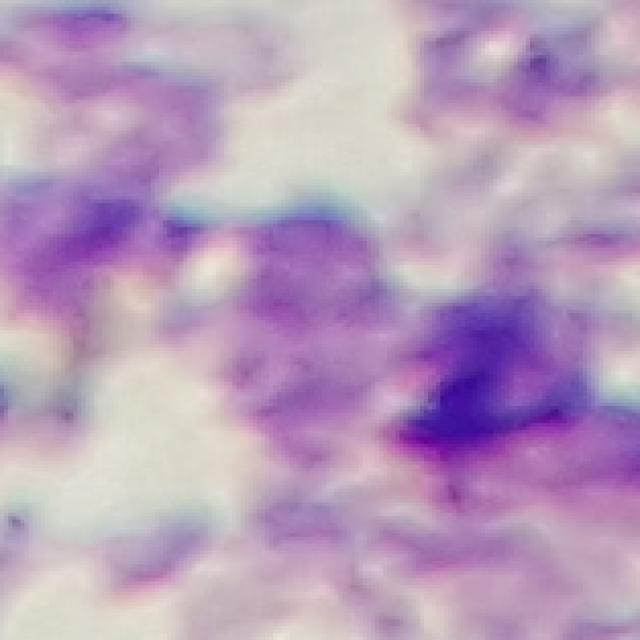non-sperm: (385, 282, 602, 514), (229, 205, 395, 488)
